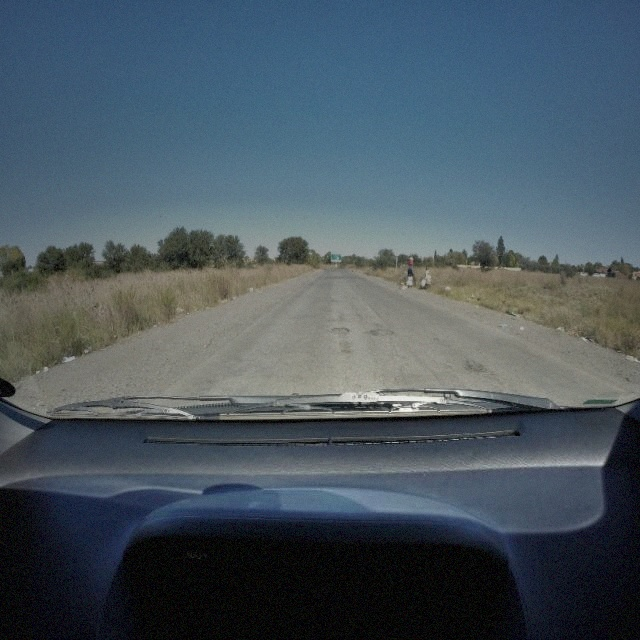pothole: (367, 327, 391, 335), (330, 325, 349, 334)
